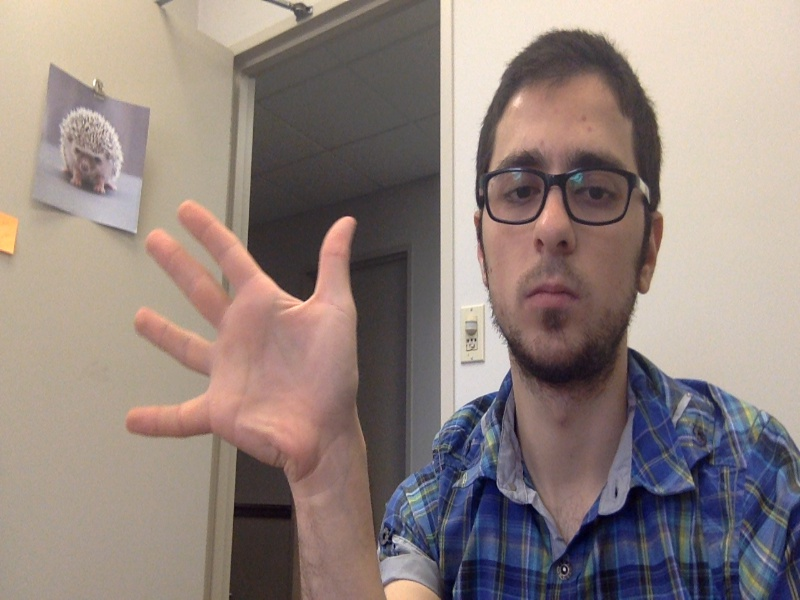5-hand: (125, 200, 367, 490)
